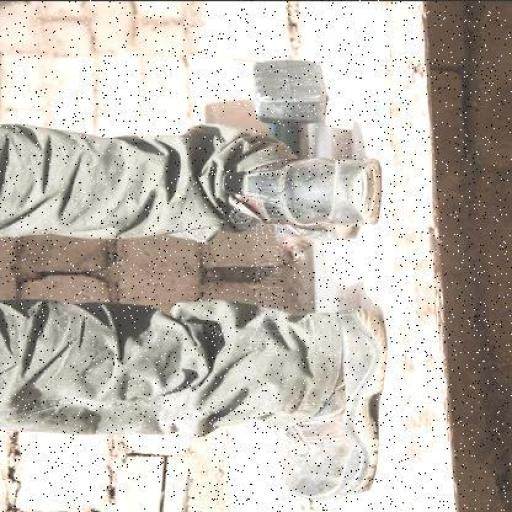safety_shoe: (284, 306, 390, 504), (254, 154, 385, 246)
